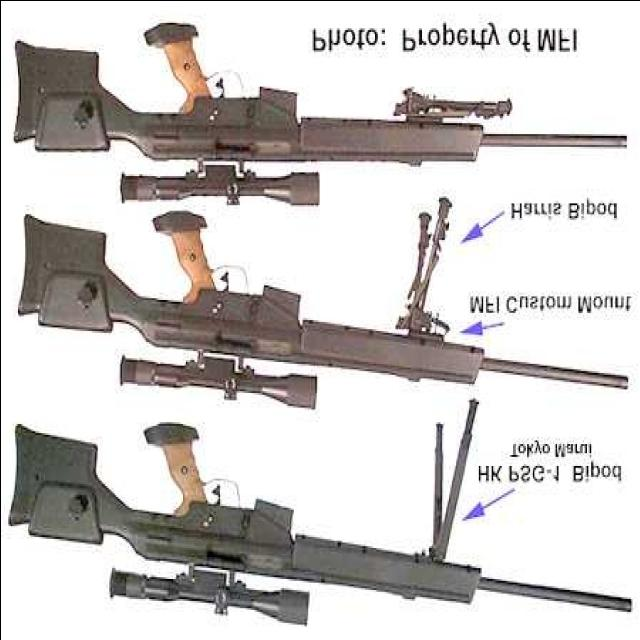heavyweapon: (1, 406, 635, 638), (15, 7, 637, 233), (14, 205, 630, 433)
